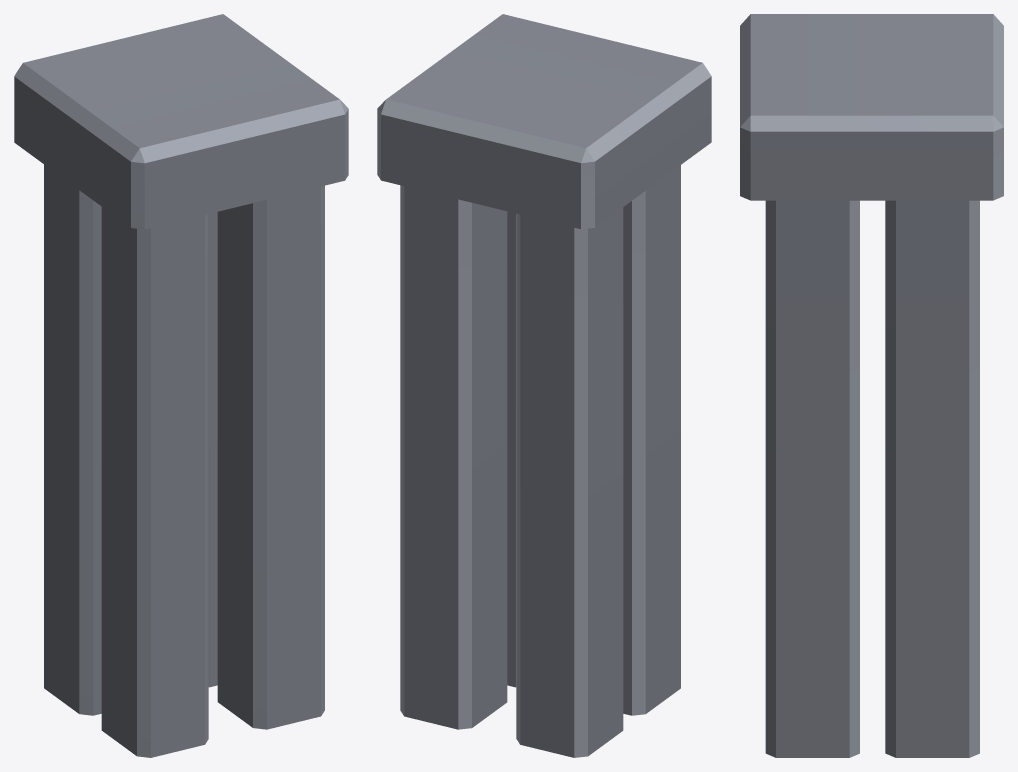
The model's file is cot2.fbx.
3 renders of one model, left to right at view 1: azimuth 30°, elevation 25°; view 2: azimuth 150°, elevation 25°; view 3: azimuth 270°, elevation 25°, orthographic. The views are drawn at different scales.
Parts seen in each view (by area): view 1: cot2; view 2: cot2; view 3: cot2.
Part boxes in pixels (x1,y1,x2,y2): cot2: [14, 14, 348, 757]; cot2: [377, 14, 711, 757]; cot2: [740, 14, 1003, 757].
Bounding box in the file's own units: 90.39 × 246 × 91.22.
